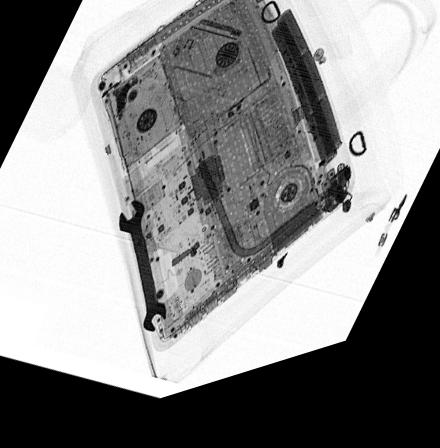Wrench: (117, 207, 166, 342)
